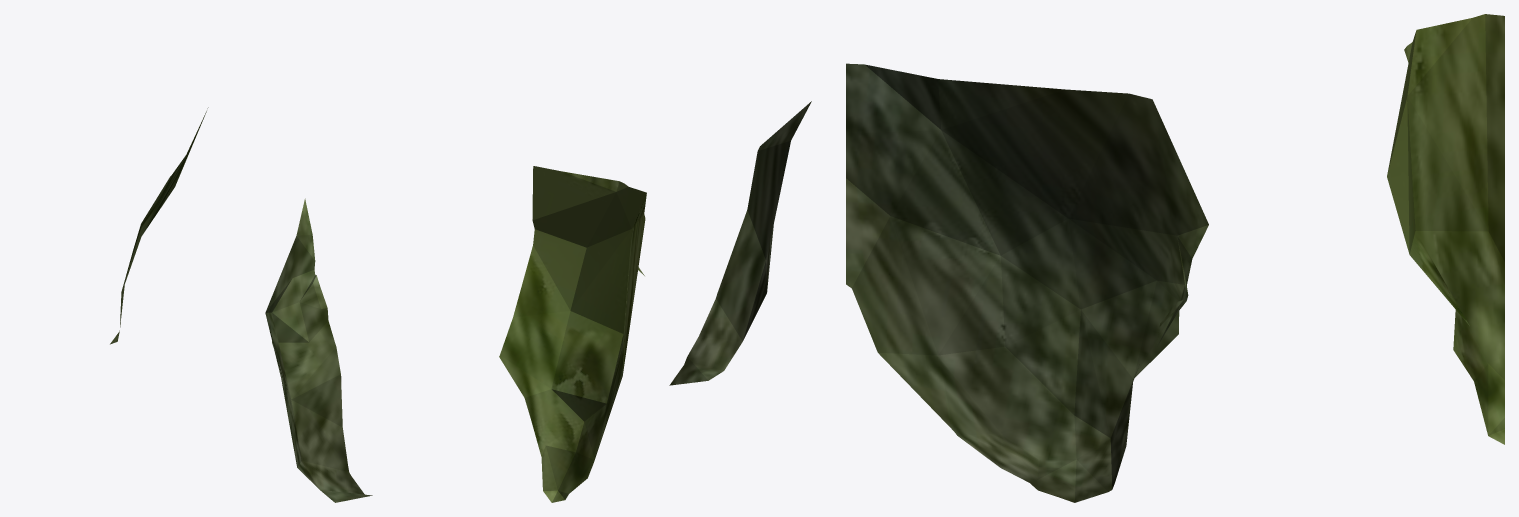
The picture shows the model from 3 angles, left to right: view 1: azimuth 30°, elevation 25°; view 2: azimuth 150°, elevation 25°; view 3: azimuth 270°, elevation 25°; orthographic projection. The views are drawn at different scales.
Size of the model in its own units: 0.905 by 1.99 by 2.95.
Materials: 2 (2 with a texture image).
